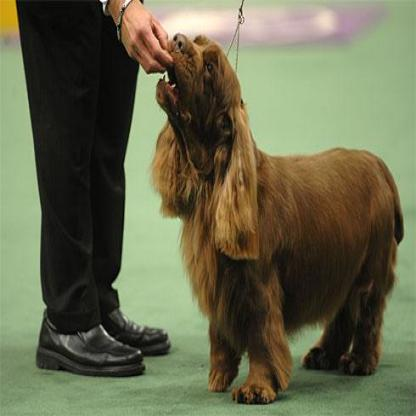Sussex_spaniel: (149, 28, 405, 401)
